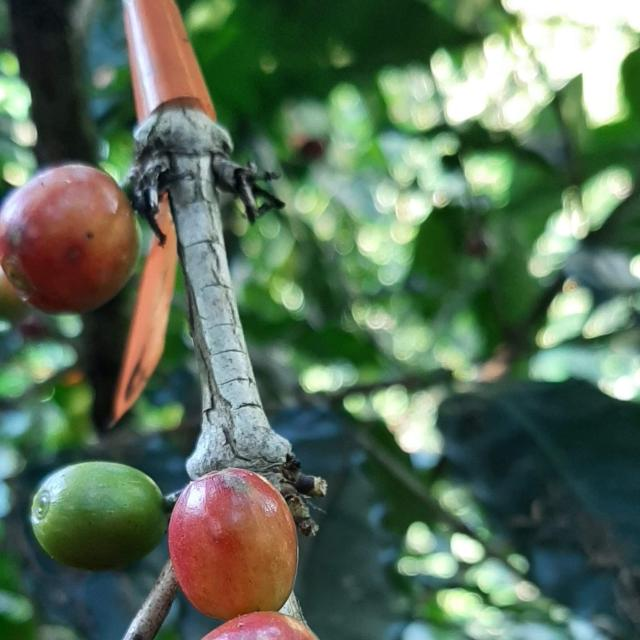green: (30, 462, 167, 572)
yellow: (0, 164, 138, 313), (168, 469, 298, 622), (202, 613, 318, 640)
